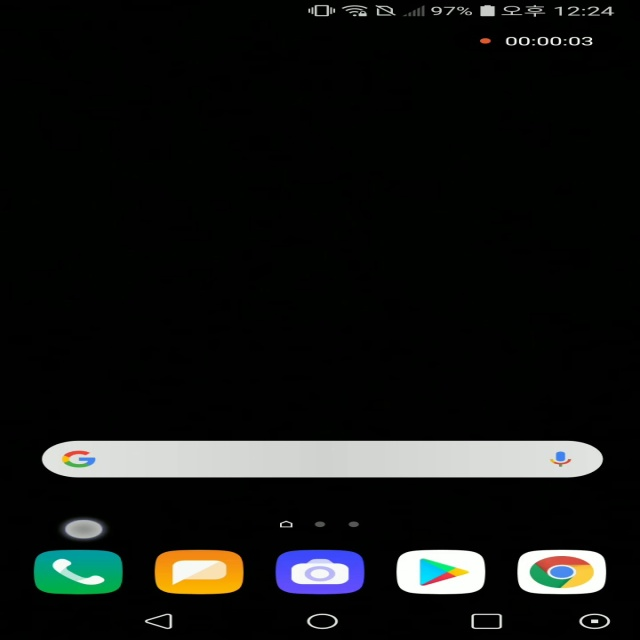Cursor: (63, 519, 107, 541)
